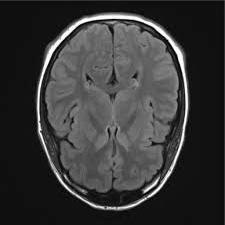Normal_Brain: (24, 6, 197, 225)
